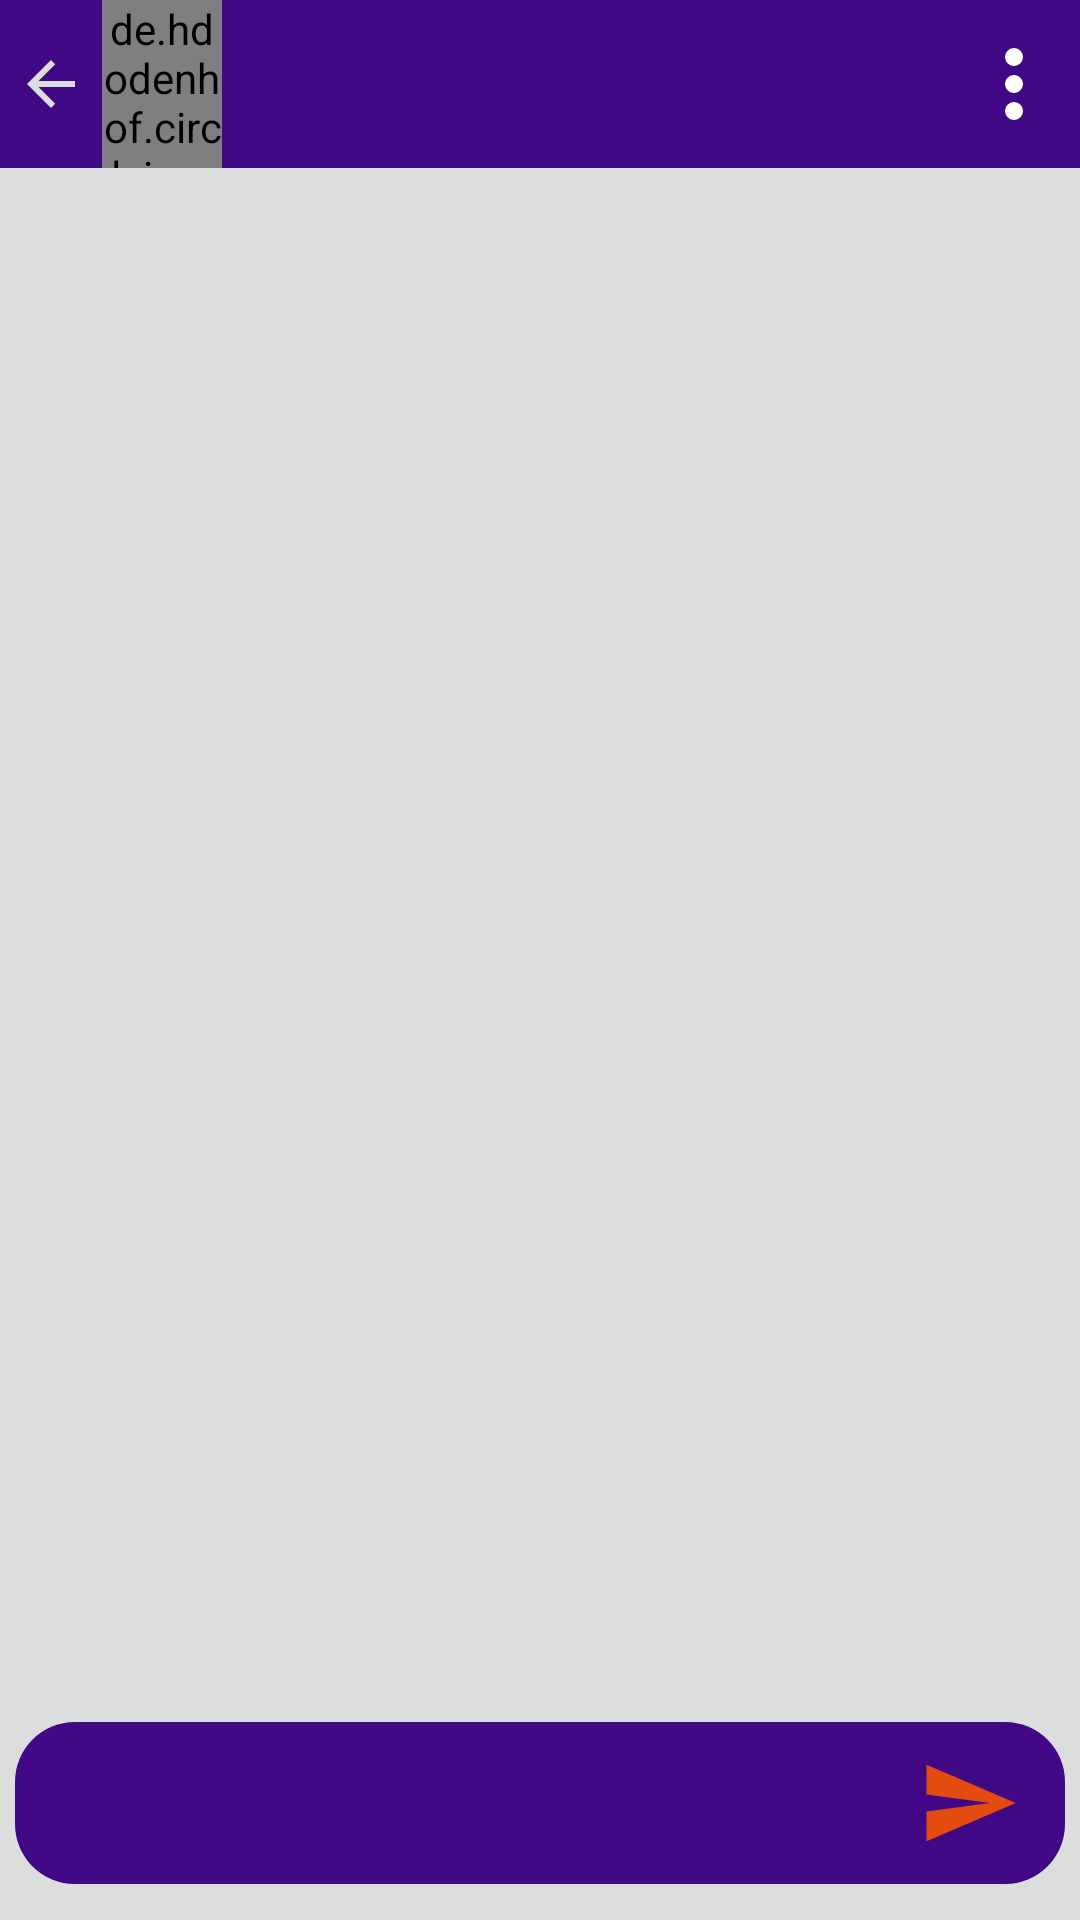

Named icons in this screenshot (1080w x 1920h) and their centers, point (x, y):
arrow back: point (51, 84)
send: point (970, 1803)
three dots: point (1014, 84)
